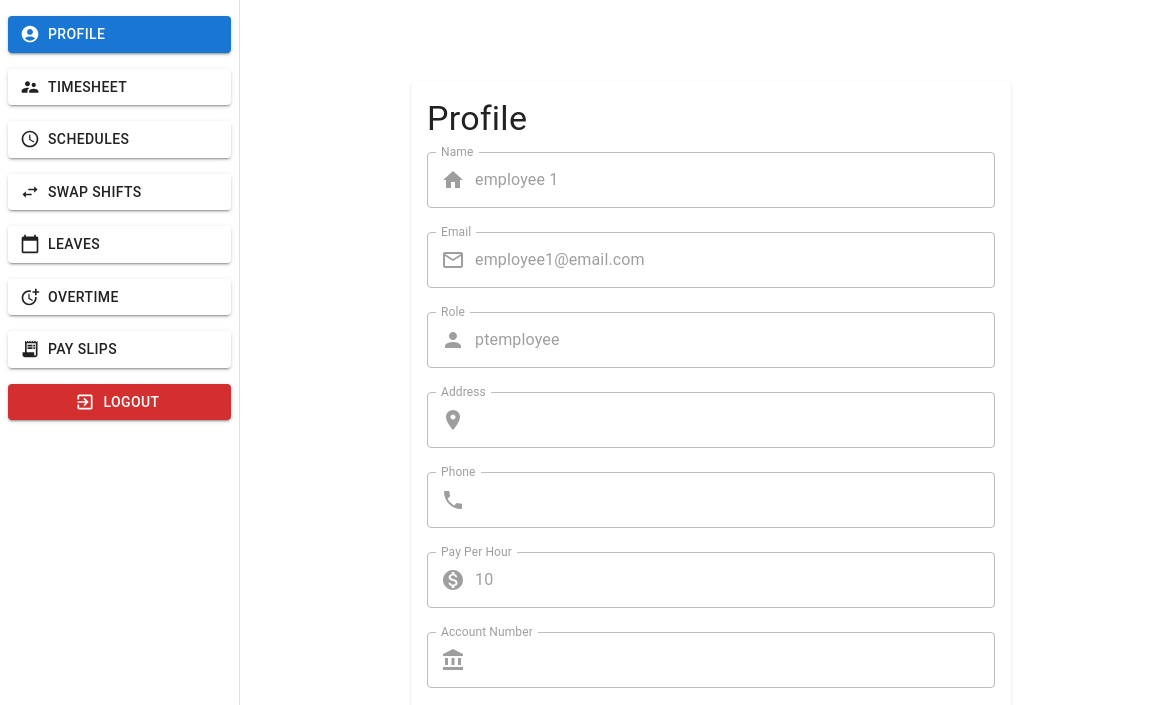
Test: Employee Tests › Can see schedules
Click the button named "schedules". click: (120, 140)
box: left=8, top=121, right=231, bottom=158
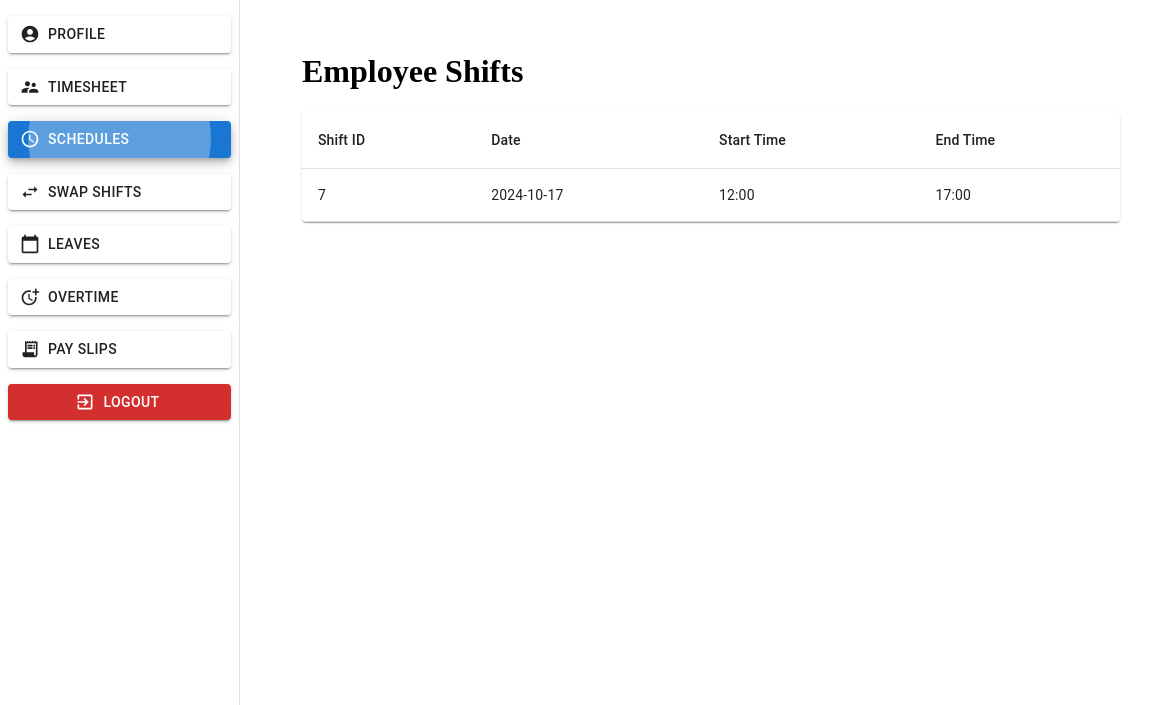
Now the heading "Employee Shifts" is shown, box left=302, top=53, right=523, bottom=89
